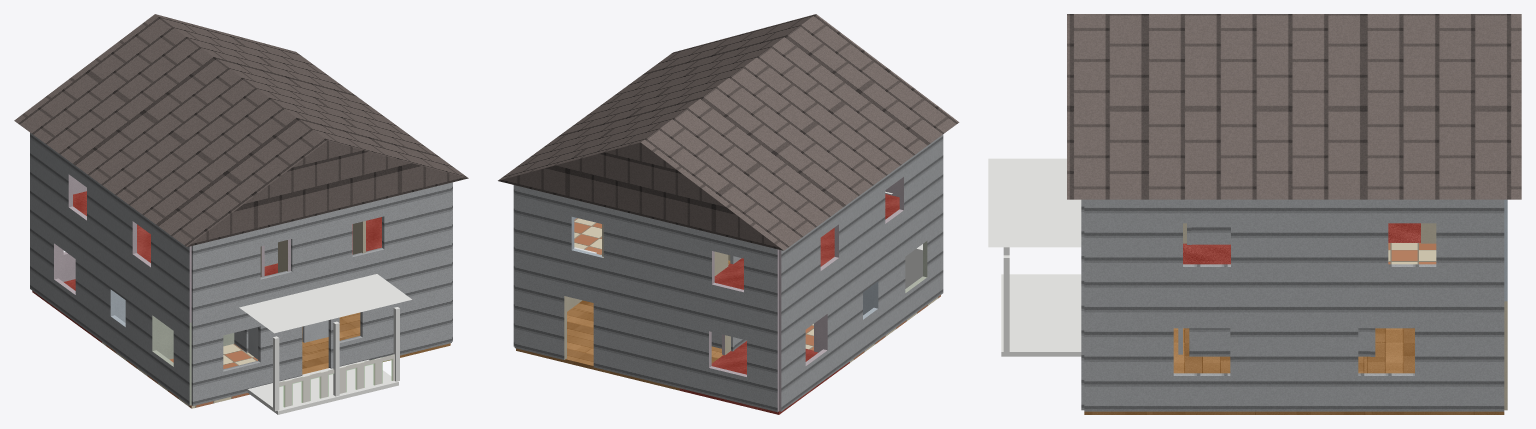
Rendered from house1.glb.
3 renders of one model, left to right at view 1: azimuth 30°, elevation 25°; view 2: azimuth 150°, elevation 25°; view 3: azimuth 270°, elevation 25°, orthographic. The views are drawn at different scales.
Visible parts, largest first — view 1: house1_94_structure-col; view 2: house1_94_structure-col; view 3: house1_94_structure-col.
Boxes of the visible parts, box(x1,y1,x2,y2) form: house1_94_structure-col: box(14, 14, 468, 414); house1_94_structure-col: box(498, 14, 959, 414); house1_94_structure-col: box(988, 14, 1521, 414).
Size of the model in its own units: 9.8 by 8.02 by 12.2.
16 materials, 11 textured.
